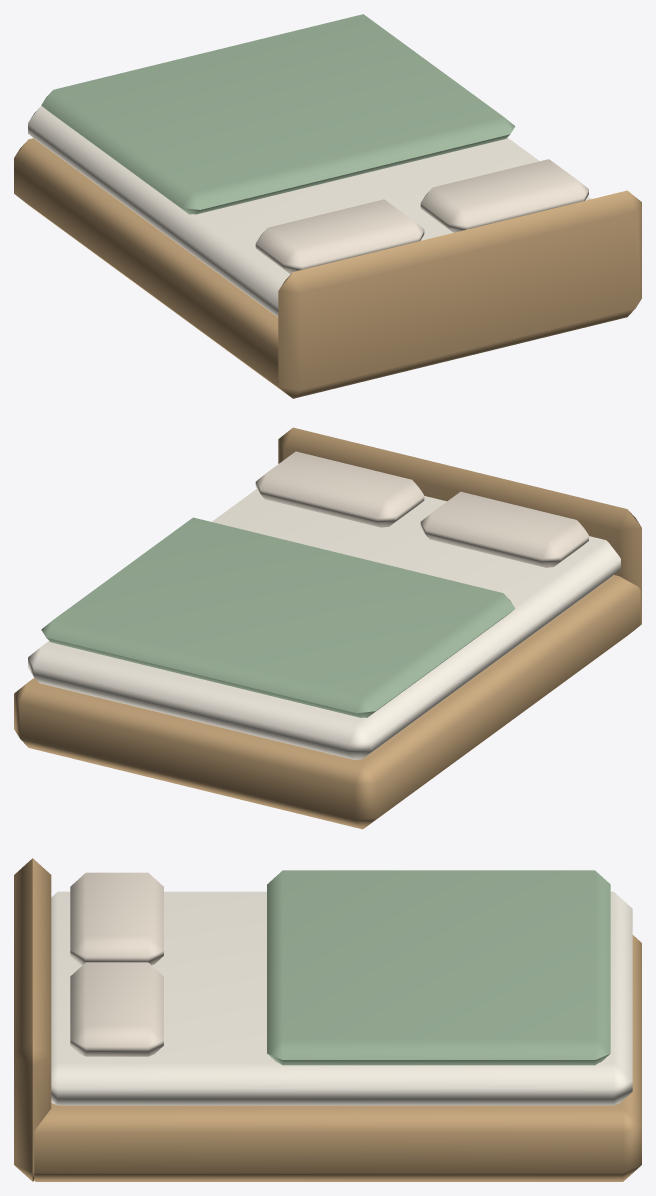
Rendered from bed.glb.
3 renders of one model, top to bottom at view 1: azimuth 30°, elevation 25°; view 2: azimuth 150°, elevation 25°; view 3: azimuth 270°, elevation 25°, orthographic. The views are drawn at different scales.
Visible parts, largest first — view 1: quilt, headboard, mattress, frame, pillow, pillow.001; view 2: quilt, frame, mattress, headboard, pillow.001, pillow; view 3: quilt, mattress, frame, headboard, pillow.001, pillow.
Part boxes in pixels (x1,y1,x2,y2): quilt: [41, 14, 515, 214]; headboard: [278, 190, 641, 398]; mattress: [28, 106, 591, 316]; frame: [14, 138, 289, 396]; pillow: [255, 199, 424, 274]; pillow.001: [420, 159, 588, 232]; quilt: [41, 517, 515, 717]; frame: [14, 575, 640, 829]; mattress: [28, 489, 620, 759]; headboard: [278, 427, 641, 627]; pillow.001: [255, 451, 424, 527]; pillow: [420, 491, 588, 567]; quilt: [267, 870, 610, 1065]; mattress: [51, 891, 632, 1105]; frame: [34, 935, 641, 1181]; headboard: [14, 858, 51, 1181]; pillow.001: [70, 962, 163, 1056]; pillow: [70, 872, 163, 965].
Bounding box in the file's own units: 1.5 × 0.5 × 2.01.
